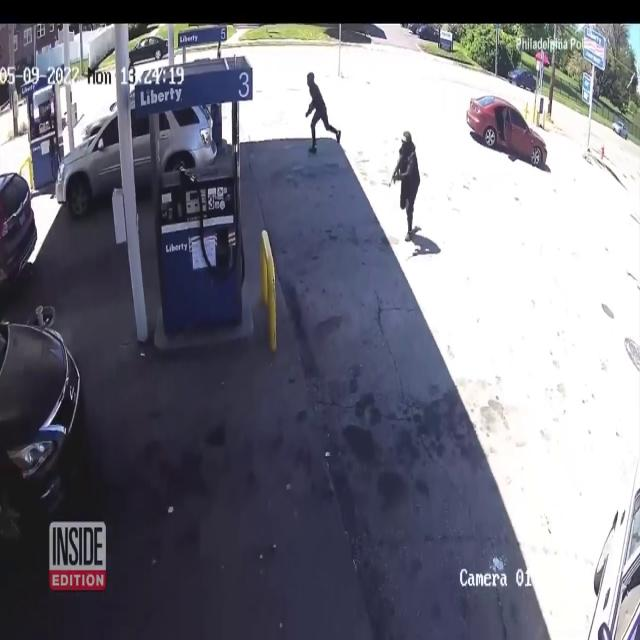penembakan: (387, 126, 423, 248), (302, 70, 344, 167)
